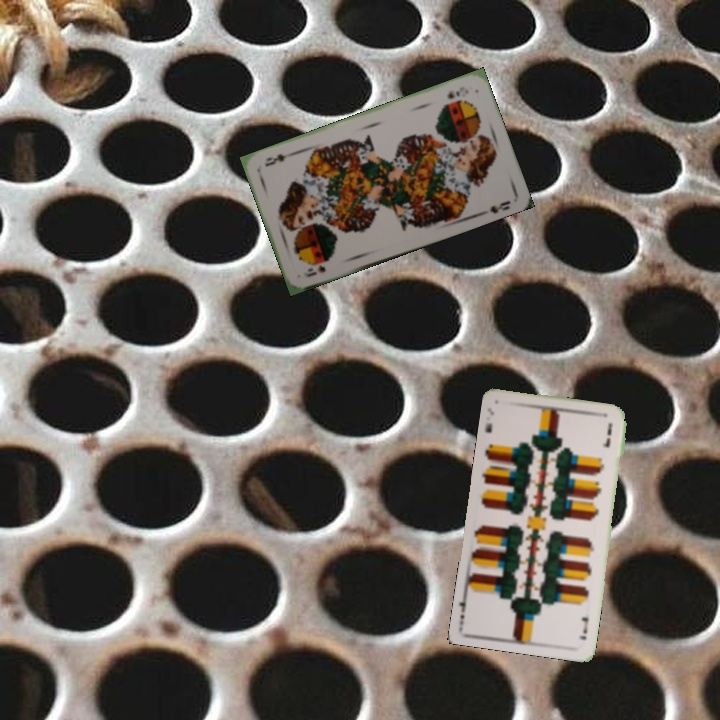E7: (481, 404, 496, 436), (575, 613, 591, 642)
SO: (302, 256, 332, 280), (443, 85, 471, 101)
